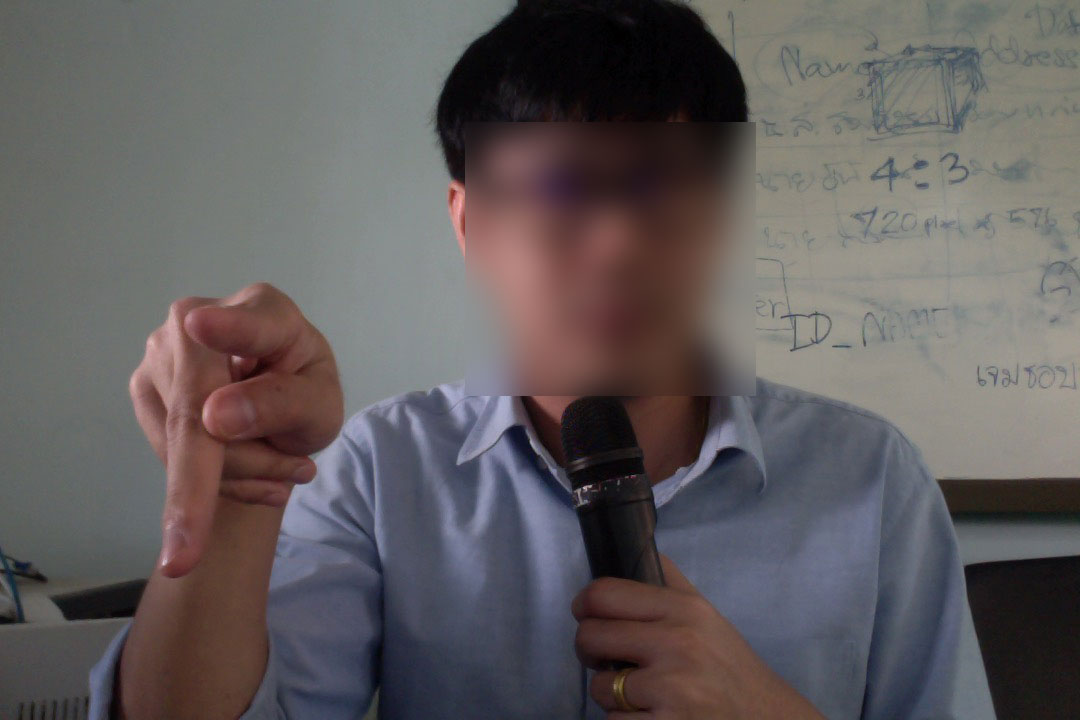por: (121, 272, 367, 582)
